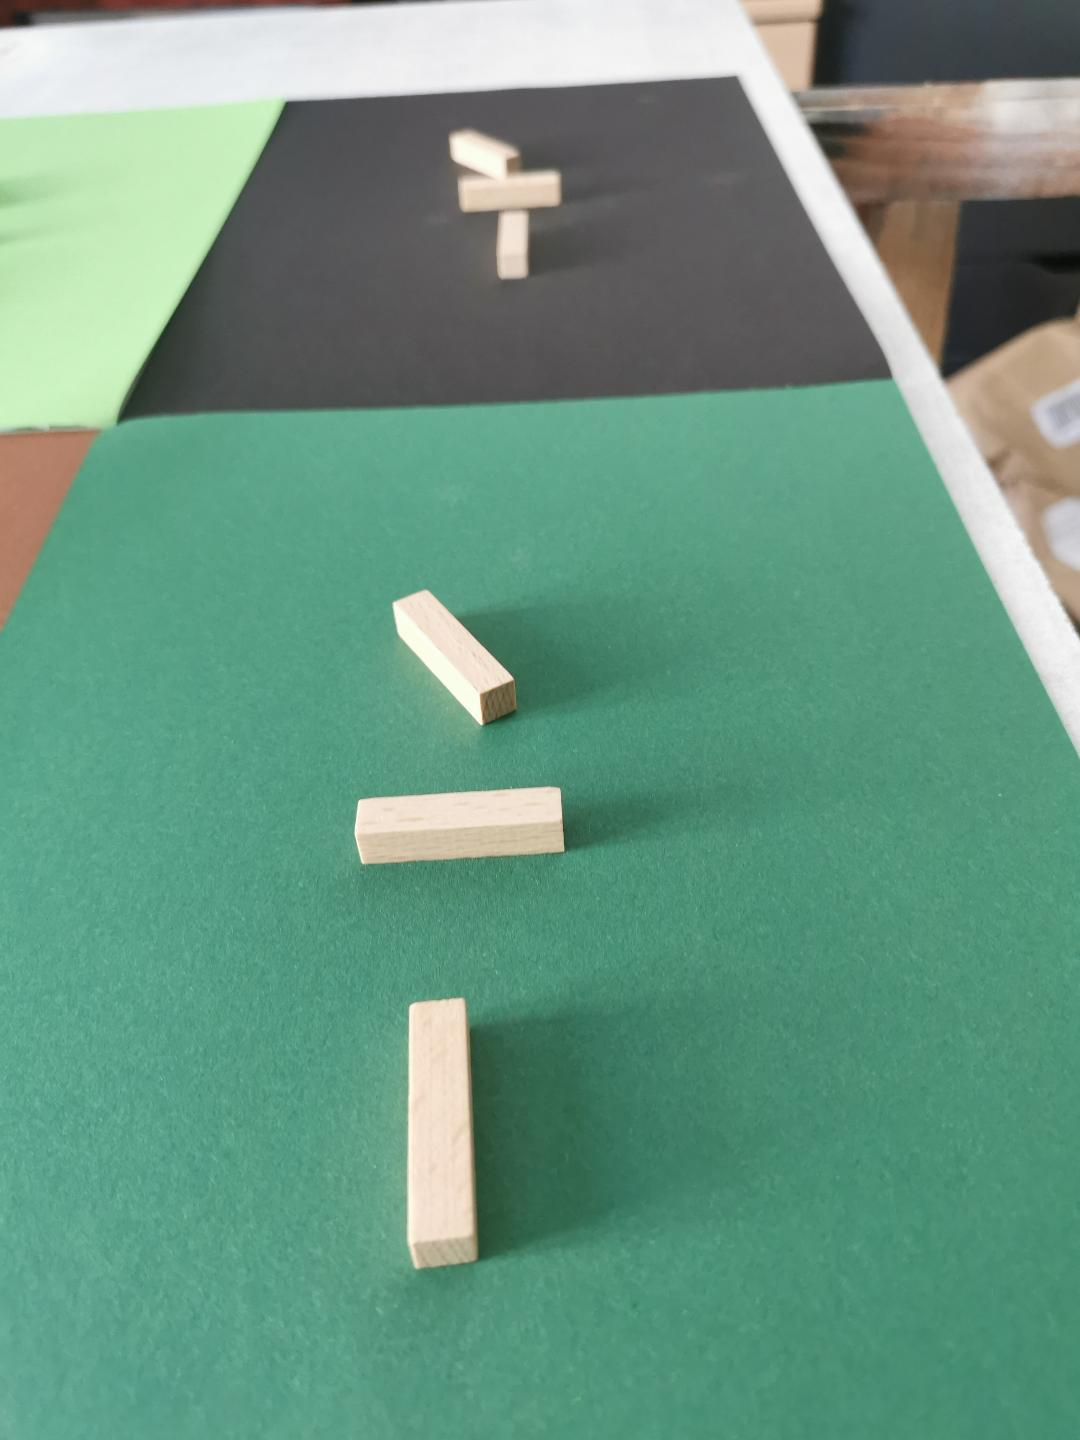jenga: (407, 999, 478, 1269), (394, 591, 517, 722), (354, 788, 565, 864), (458, 169, 563, 214), (450, 129, 521, 177), (498, 211, 529, 279)
